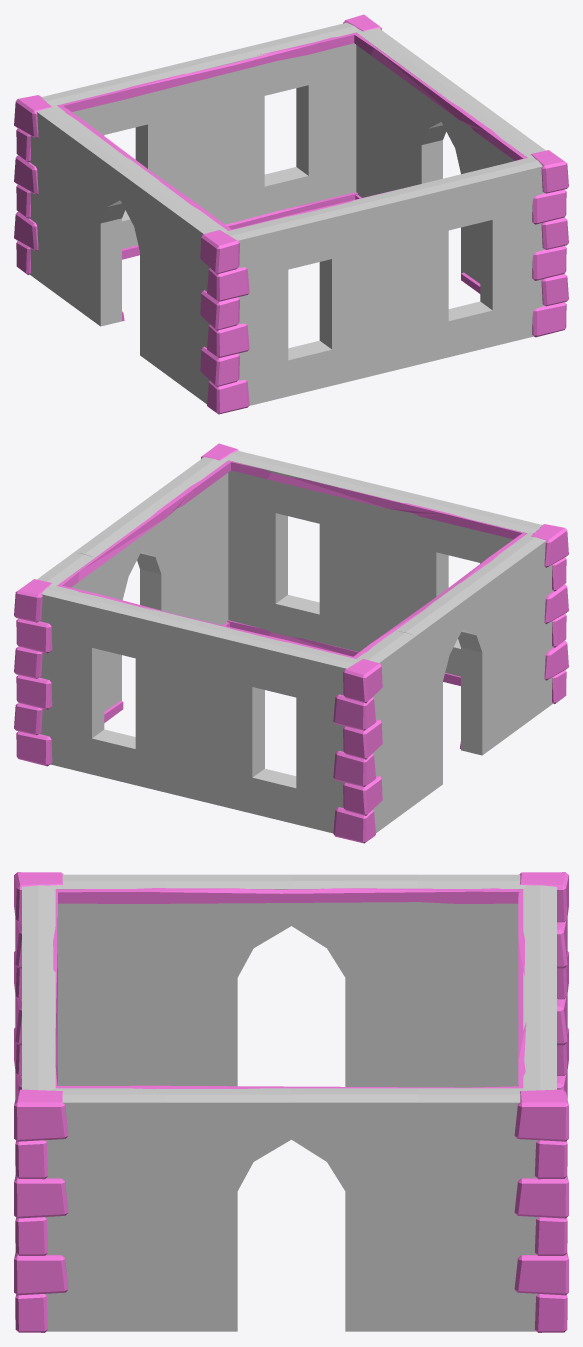
File: SM_Tower_Square_6m_Entrance_Walkthrough_Fantasy_Base.fbx
3 renders of one model, top to bottom at view 1: azimuth 30°, elevation 25°; view 2: azimuth 150°, elevation 25°; view 3: azimuth 270°, elevation 25°, orthographic. The views are drawn at different scales.
Parts seen in each view (by area): view 1: SM_Tower_Square_6m_Entrance_Walkthrough_Fantasy_Base; view 2: SM_Tower_Square_6m_Entrance_Walkthrough_Fantasy_Base; view 3: SM_Tower_Square_6m_Entrance_Walkthrough_Fantasy_Base.
Boxes of the visible parts, x1=… form: SM_Tower_Square_6m_Entrance_Walkthrough_Fantasy_Base: x1=14, y1=14, x2=568, y2=414; SM_Tower_Square_6m_Entrance_Walkthrough_Fantasy_Base: x1=14, y1=443, x2=568, y2=843; SM_Tower_Square_6m_Entrance_Walkthrough_Fantasy_Base: x1=14, y1=872, x2=568, y2=1332.
Bounding box in the file's own units: 6.61 × 3.05 × 6.59.
